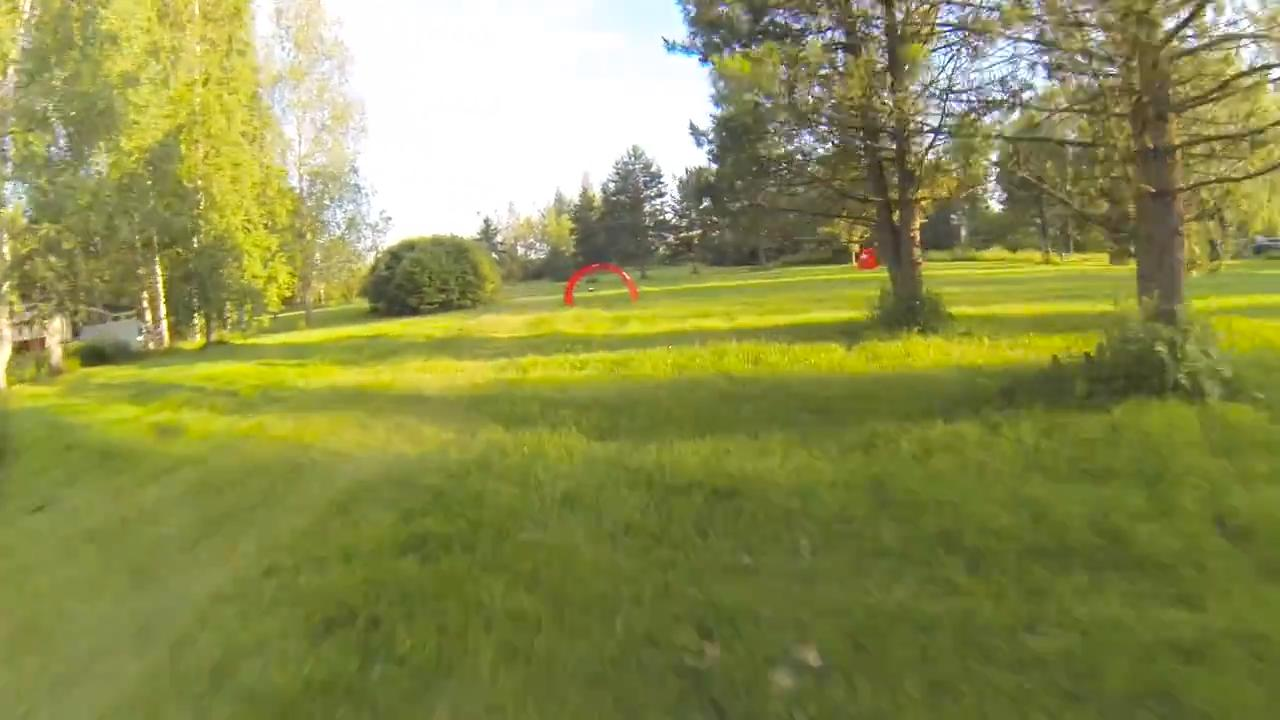gate: (561, 261, 641, 307)
